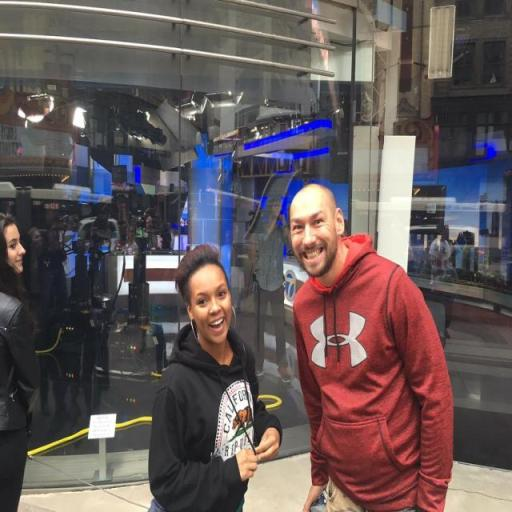Under Armour: (308, 308, 368, 372)
